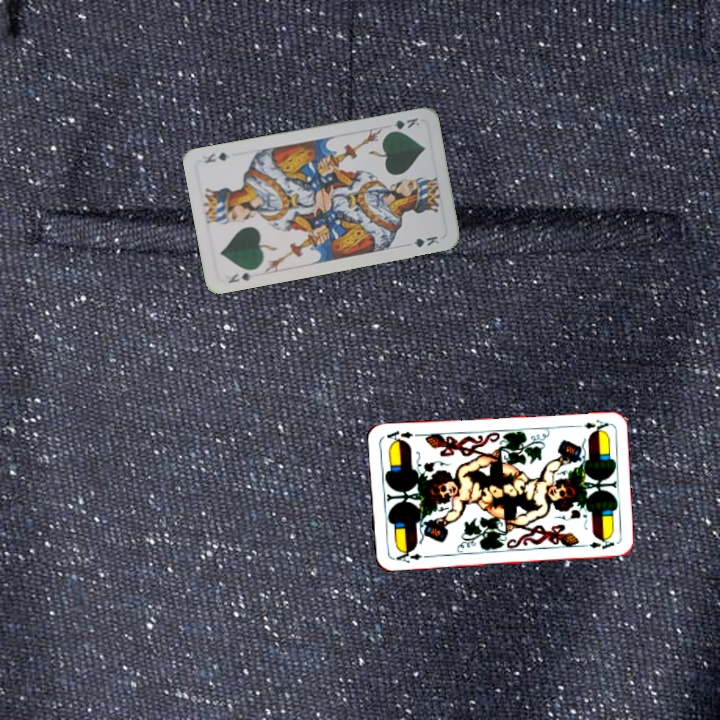EA: (571, 416, 611, 434), (389, 545, 424, 565)
GK: (384, 114, 422, 135), (224, 268, 256, 286)
